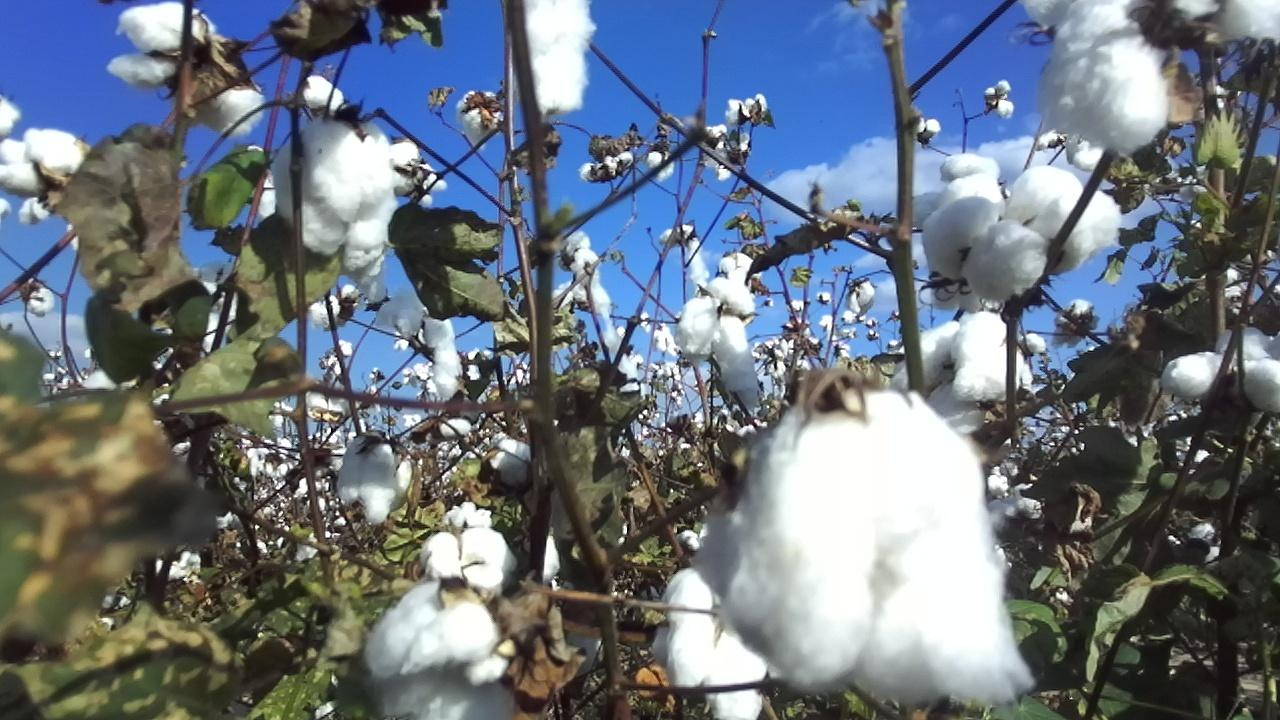cotton_ready: (691, 385, 1039, 707), (1022, 0, 1280, 154), (924, 163, 1120, 300), (362, 579, 532, 720), (106, 0, 265, 139), (277, 114, 394, 270), (891, 309, 1036, 434), (649, 570, 768, 720), (675, 277, 757, 411), (373, 287, 465, 397), (1160, 327, 1280, 411), (517, 0, 593, 116), (337, 431, 415, 526), (0, 129, 90, 197), (420, 526, 519, 587), (386, 140, 448, 207), (484, 436, 533, 491), (456, 89, 503, 144)
